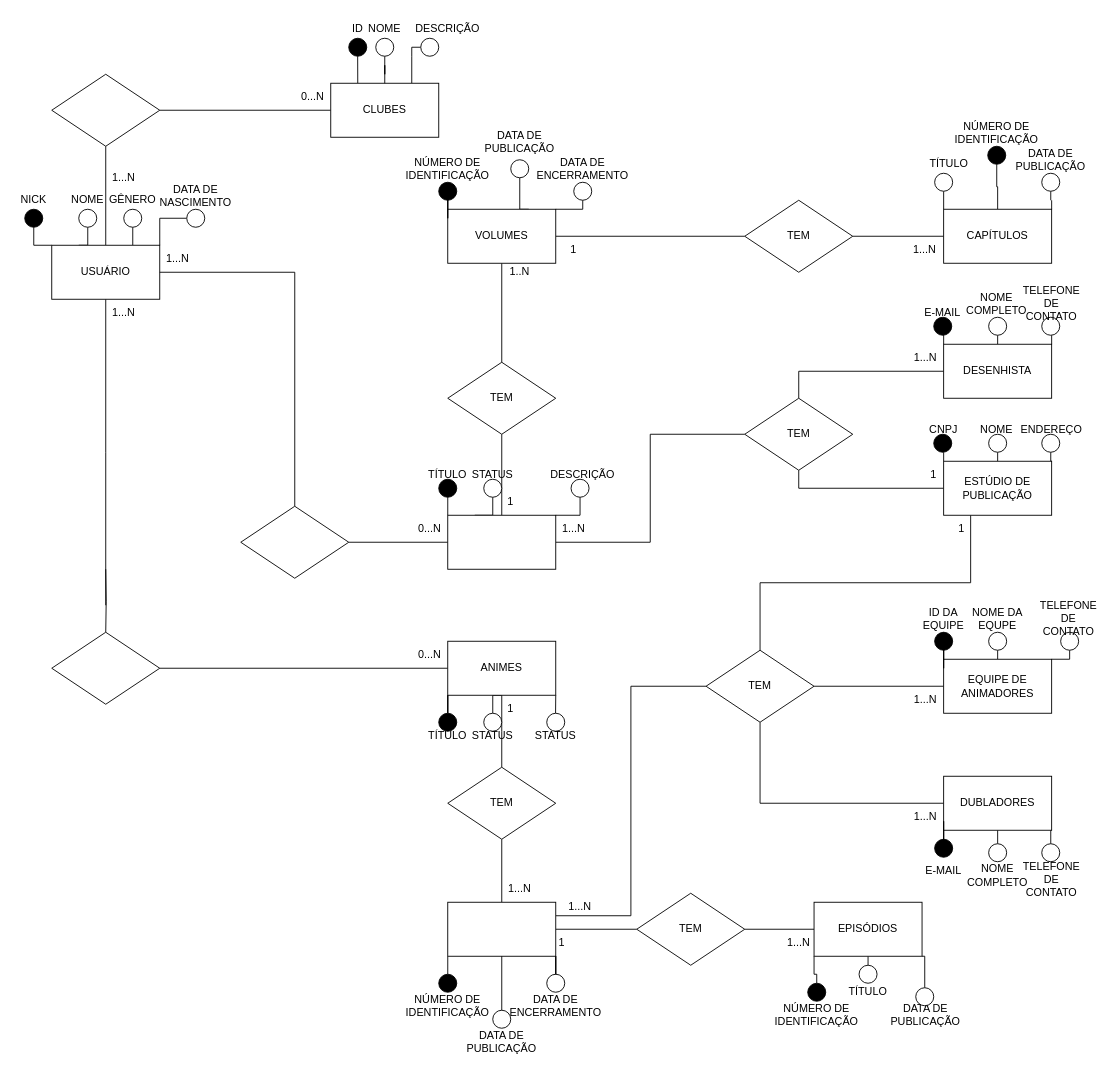
Some shapes in this 1112 by 1070 pixel diagram are drawn without their labels. The centre of each missing label's shape, as x and y in pixels:
"ASSITE" goes at (105,667).
"LÊ" goes at (294,541).
"MANGÁS" goes at (501,541).
"PARTICIPA" goes at (105,109).
"TEMPORADAS" goes at (501,928).
